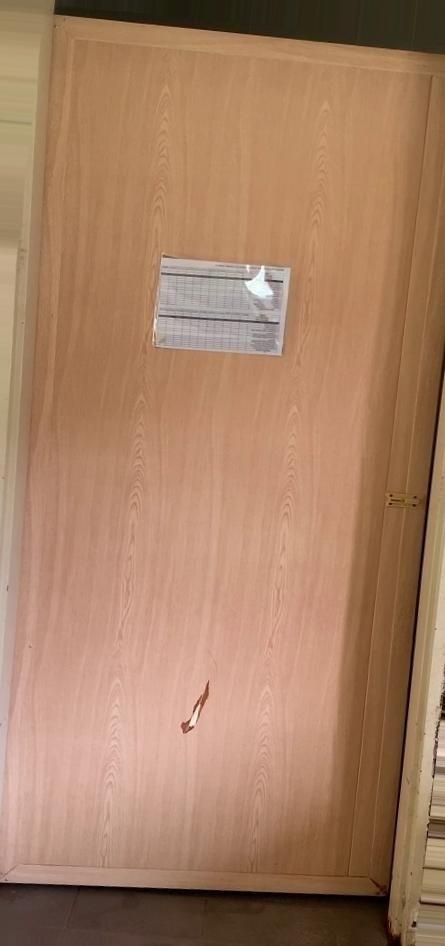door: (31, 11, 421, 935)
